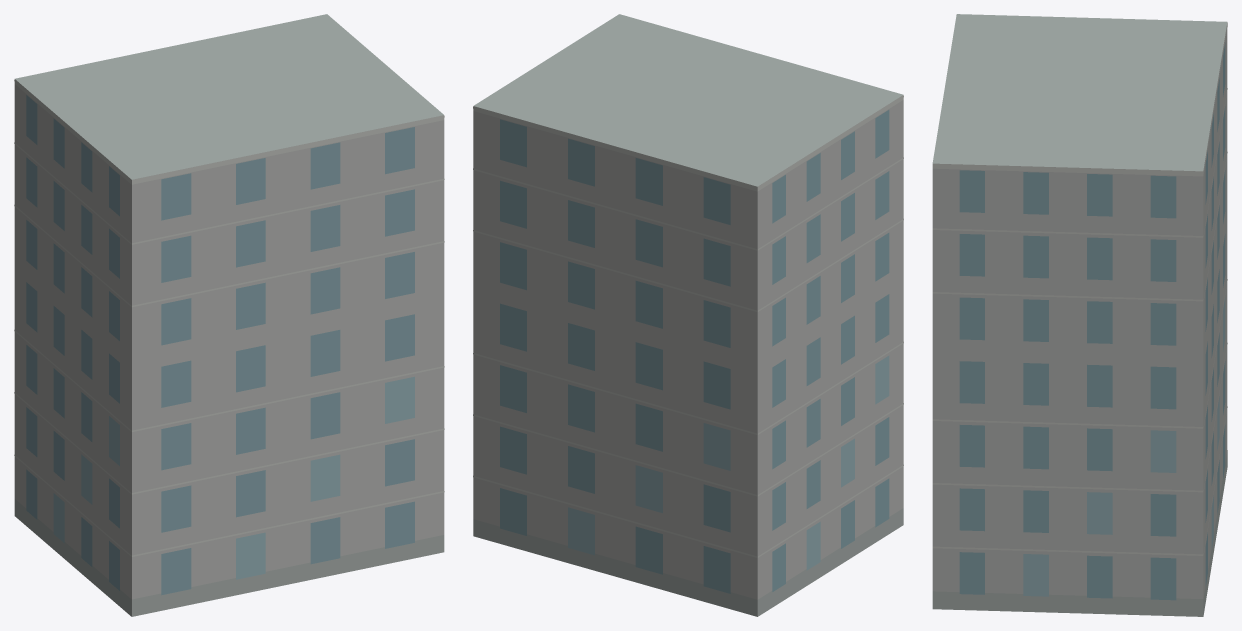
Rendered from survey-upis-32765918.glb.
3 renders of one model, left to right at view 1: azimuth 30°, elevation 25°; view 2: azimuth 150°, elevation 25°; view 3: azimuth 270°, elevation 25°, orthographic. The views are drawn at different scales.
Parts seen in each view (by area): view 1: survey-upis-32765918.tmp; view 2: survey-upis-32765918.tmp; view 3: survey-upis-32765918.tmp.
Part boxes in pixels (x1=…): survey-upis-32765918.tmp: x1=14, y1=14, x2=444, y2=616; survey-upis-32765918.tmp: x1=473, y1=14, x2=903, y2=616; survey-upis-32765918.tmp: x1=932, y1=14, x2=1227, y2=616.
Bounding box in the file's own units: 16.2 × 21.35 × 12.83.
